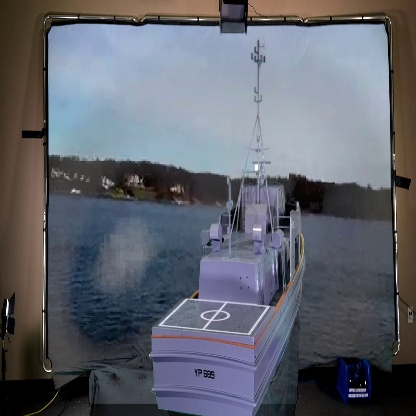YP689: (145, 42, 311, 416)
